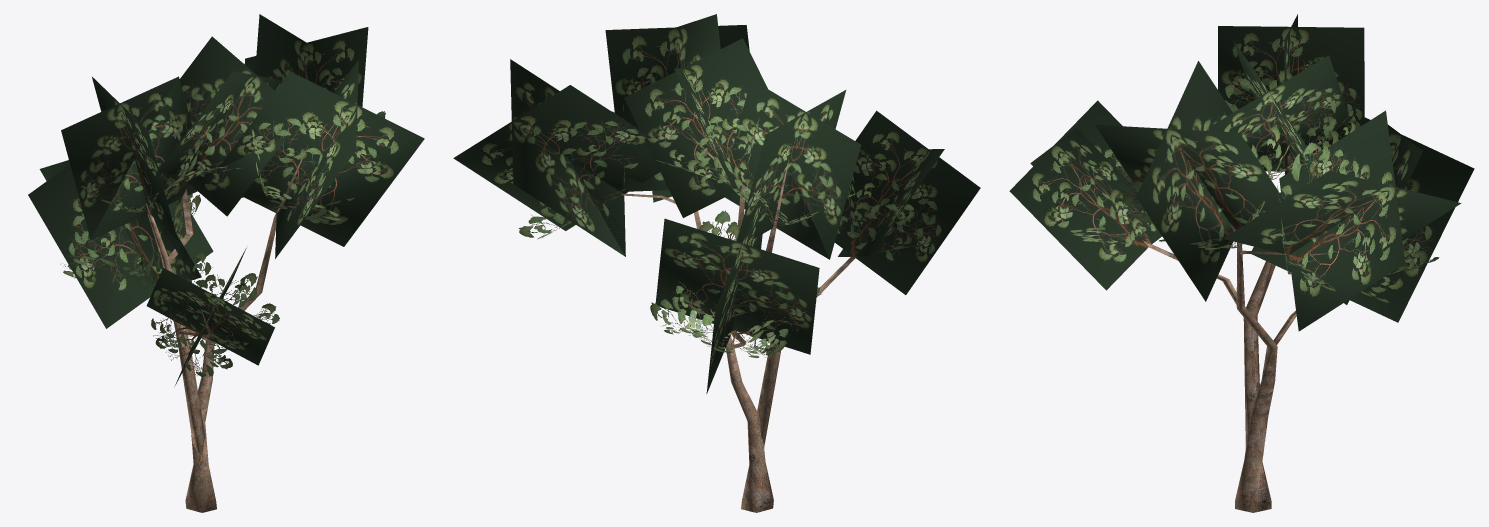
The model's file is decd_ginkgotreeleaves_a1_l0.fbx.
The picture shows the model from 3 angles, left to right: view 1: azimuth 30°, elevation 25°; view 2: azimuth 150°, elevation 25°; view 3: azimuth 270°, elevation 25°; orthographic projection. The views are drawn at different scales.
Visible parts, largest first — view 1: mesh_node; view 2: mesh_node; view 3: mesh_node.
Part boxes in pixels (left/top/right/bottom): mesh_node: left=28, top=14, right=424, bottom=512; mesh_node: left=453, top=14, right=980, bottom=512; mesh_node: left=1009, top=14, right=1474, bottom=512.
Bounding box in the file's own units: 7.49 × 8.3 × 7.31.
